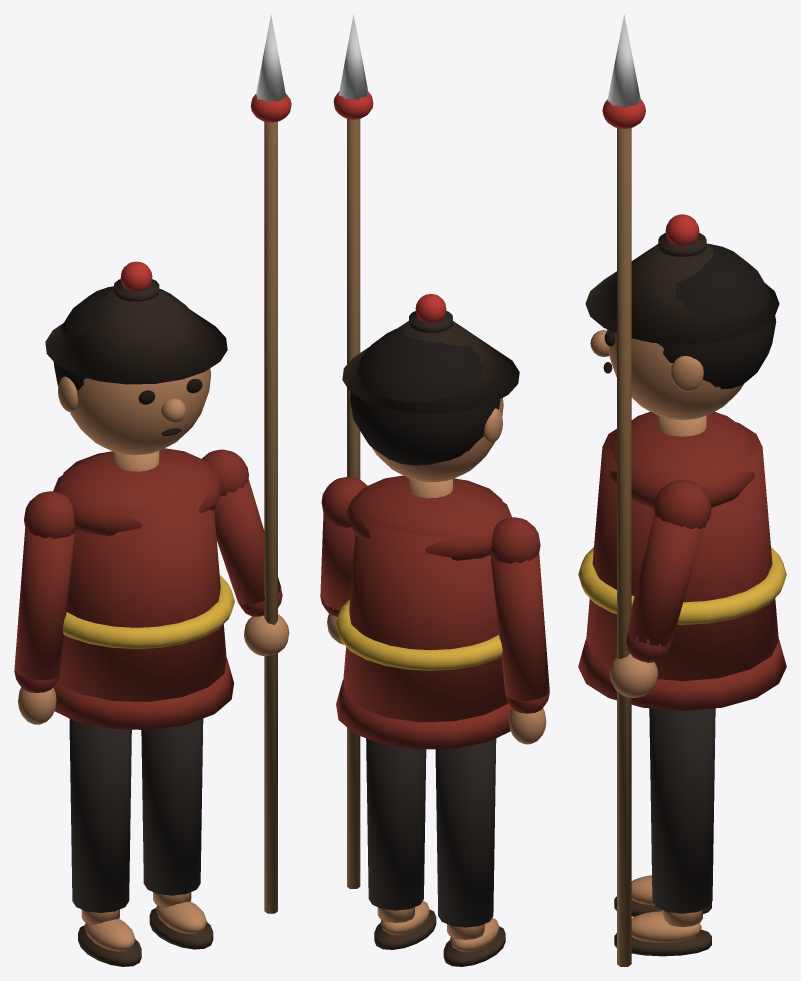
The model's file is villager_linh_giao.glb.
The picture shows the model from 3 angles, left to right: view 1: azimuth 30°, elevation 25°; view 2: azimuth 150°, elevation 25°; view 3: azimuth 270°, elevation 25°; orthographic projection. The views are drawn at different scales.
Visible parts, largest first — view 1: Body, Head, ArmR, LegL, LegR, ArmL; view 2: Body, Head, ArmR, LegL, LegR, ArmL; view 3: Body, ArmR, Head, LegR, LegL.
Part boxes in pixels (x1=…): Body: x1=53, y1=448, x2=234, y2=729; Head: x1=45, y1=261, x2=227, y2=455; ArmR: x1=202, y1=14, x2=291, y2=913; LegL: x1=69, y1=718, x2=141, y2=966; LegR: x1=141, y1=718, x2=213, y2=949; ArmL: x1=14, y1=491, x2=76, y2=724; Body: x1=335, y1=475, x2=511, y2=749; Head: x1=342, y1=294, x2=519, y2=482; ArmR: x1=320, y1=14, x2=373, y2=888; LegL: x1=435, y1=738, x2=505, y2=966; LegR: x1=366, y1=738, x2=436, y2=949; ArmL: x1=489, y1=517, x2=549, y2=744; Body: x1=578, y1=411, x2=786, y2=710; ArmR: x1=602, y1=14, x2=711, y2=966; Head: x1=585, y1=214, x2=779, y2=419; LegR: x1=614, y1=708, x2=715, y2=956; LegL: x1=614, y1=875, x2=711, y2=916.
Bounding box in the file's own units: 0.62 × 2.2 × 0.43.
